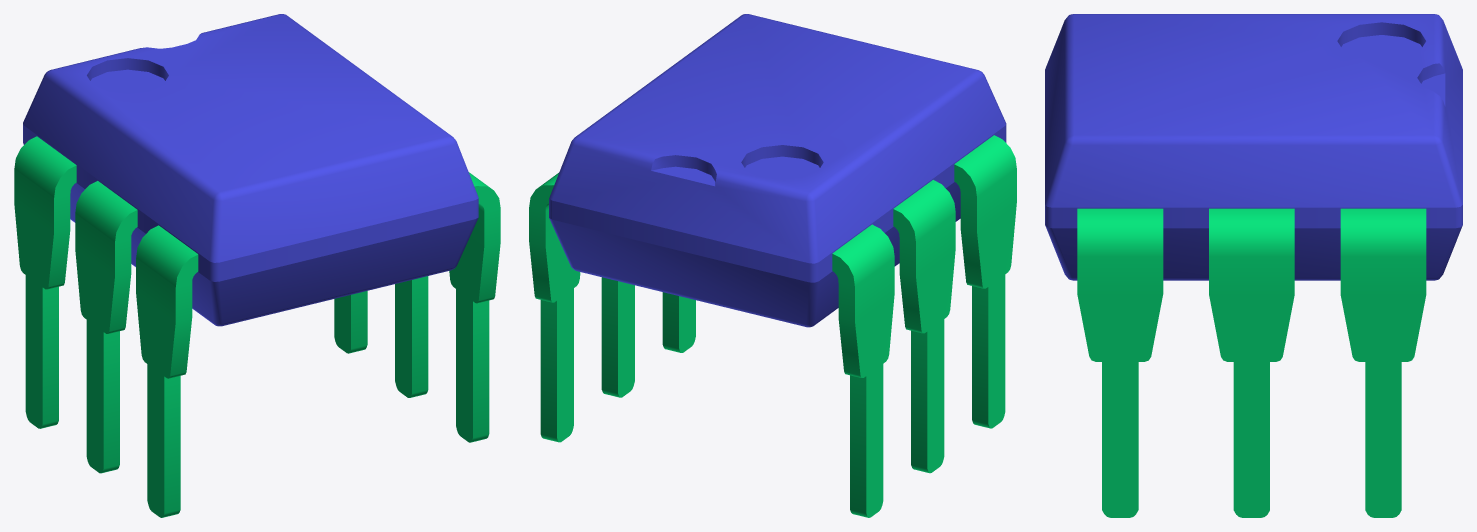
The model's file is dip6.fbx.
The picture shows the model from 3 angles, left to right: view 1: azimuth 30°, elevation 25°; view 2: azimuth 150°, elevation 25°; view 3: azimuth 270°, elevation 25°; orthographic projection. The views are drawn at different scales.
Visible parts, largest first — view 1: Cube.001, Cube.004, Cube.002, Cube.003; view 2: Cube.001, Cube.003, Cube.002, Cube.004; view 3: Cube.001, Cube.004, Cube.003, Cube.002.
Part boxes in pixels (<box>): Cube.001: <box>23,14,478,326</box>; Cube.004: <box>136,172,500,517</box>; Cube.002: <box>75,181,428,473</box>; Cube.003: <box>14,136,367,428</box>; Cube.001: <box>549,14,1006,327</box>; Cube.003: <box>529,173,894,517</box>; Cube.002: <box>601,180,955,473</box>; Cube.004: <box>662,135,1016,428</box>; Cube.001: <box>1045,14,1462,280</box>; Cube.004: <box>1077,208,1163,517</box>; Cube.003: <box>1340,208,1426,517</box>; Cube.002: <box>1209,208,1294,517</box>.
Bounding box in the file's own units: 546 × 526 × 562.
